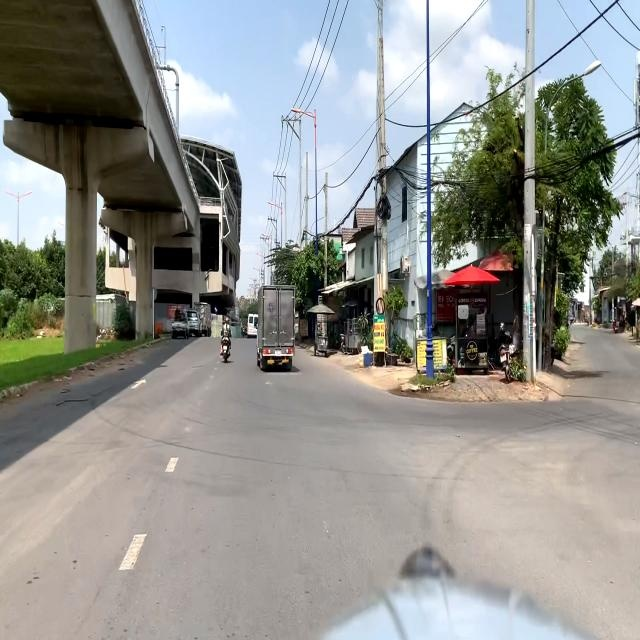bien_hieu_lenh: (214, 306, 218, 313)
